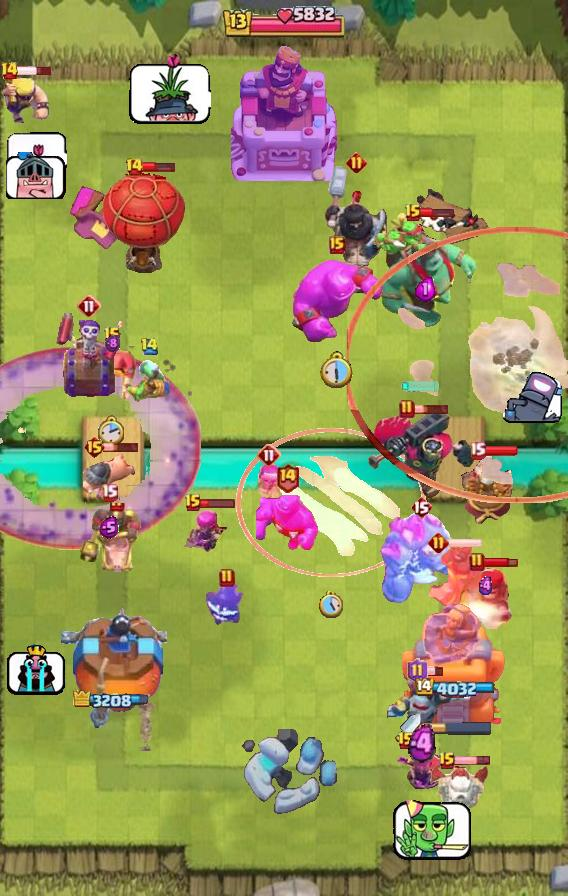arrows: (0, 73, 52, 123)
bar: (398, 595, 508, 731)
bowler: (87, 343, 137, 399)
cannon-cart: (103, 171, 187, 273)
cannoneer-tower: (379, 511, 463, 603)
clock: (221, 3, 347, 43)
clone: (289, 258, 385, 344)
electro-spirit: (408, 724, 436, 764), (415, 276, 437, 302), (99, 517, 119, 540), (477, 576, 495, 596), (105, 335, 119, 354)
elixir: (320, 351, 355, 389), (98, 416, 126, 448), (319, 590, 343, 617)
elixir-collector: (456, 450, 518, 528)
elixir-golem-small: (383, 673, 479, 743)
emote: (15, 65, 52, 77), (413, 403, 450, 415), (104, 441, 141, 453), (445, 537, 482, 549), (483, 445, 519, 457), (200, 498, 236, 510), (483, 556, 518, 568), (141, 161, 175, 173), (454, 754, 491, 765), (421, 206, 456, 217), (425, 666, 444, 678)
evolution-symbol: (395, 741, 449, 803), (178, 506, 228, 556)
executioner: (83, 452, 135, 502)
fisherman: (133, 699, 159, 751)
freeze: (424, 539, 484, 625), (75, 503, 143, 577)
giant-snowball: (124, 359, 174, 403)
goblin: (257, 462, 281, 506)
ice-spirit: (399, 381, 441, 393)
ice-wizard: (236, 427, 426, 577)
inferno-dragon: (323, 161, 389, 281)
inferno-tower: (363, 405, 477, 501)
king-tower: (231, 43, 337, 181)
king-tower-bar: (421, 721, 493, 735)
lava-hound: (372, 211, 478, 329)
mini-pekka: (427, 763, 491, 811)
phoenix-small: (457, 565, 515, 629)
queen-tower: (61, 603, 167, 731)
rocket: (0, 346, 200, 550)
royal-ghost: (348, 227, 568, 503)
selected: (73, 690, 155, 712), (414, 677, 495, 699)
skeleton: (127, 50, 211, 125), (390, 792, 472, 863), (6, 641, 66, 696), (502, 371, 563, 424), (5, 153, 66, 200), (5, 132, 66, 176)
skeleton-king-bar: (55, 313, 123, 399)
spear-goblin: (205, 581, 249, 629)
text: (275, 462, 300, 493), (77, 294, 101, 318), (257, 443, 281, 467), (83, 435, 106, 459), (407, 658, 428, 684), (410, 495, 432, 519), (346, 152, 367, 173), (428, 532, 449, 553), (1, 61, 20, 81), (124, 157, 143, 177), (141, 337, 160, 356), (404, 203, 422, 223), (103, 326, 121, 346), (184, 493, 202, 513), (397, 731, 415, 751), (438, 751, 456, 771), (101, 483, 119, 501), (399, 399, 415, 419), (469, 552, 485, 572), (219, 568, 235, 588), (469, 441, 486, 459), (329, 236, 345, 254)
tornado: (256, 491, 318, 551)
